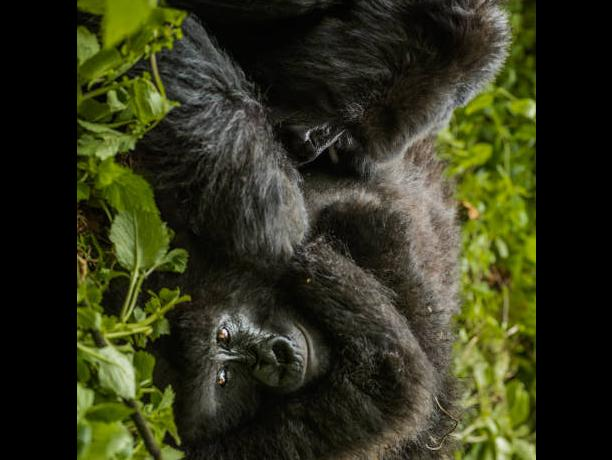goriile_montagne: (146, 181, 500, 460), (180, 0, 536, 176)
